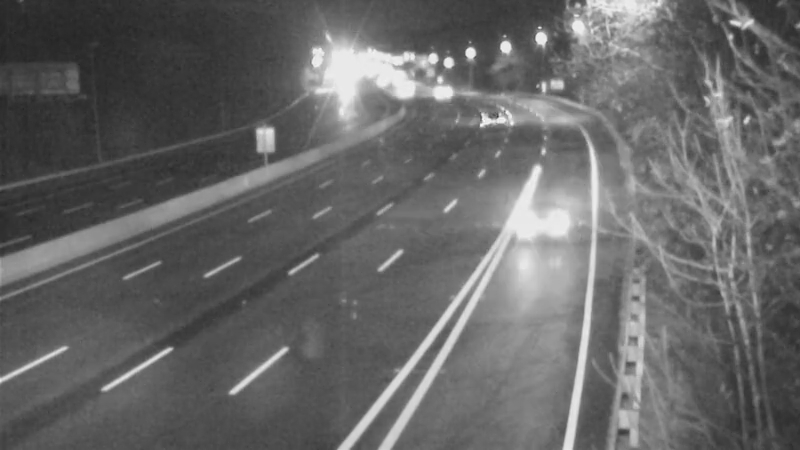vehicle: (507, 193, 587, 273), (413, 71, 463, 121), (465, 91, 515, 141)
